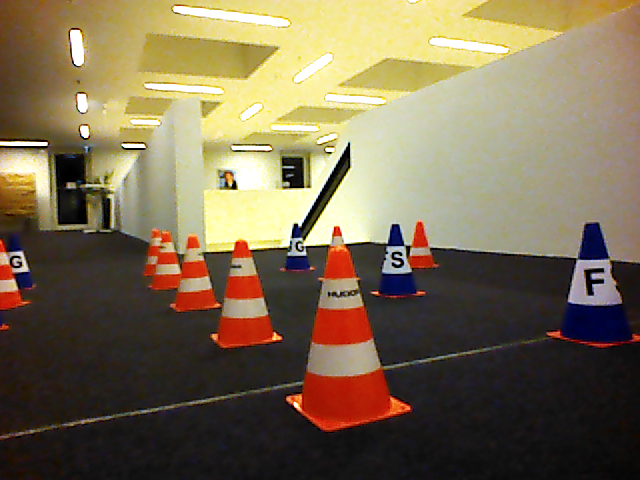bluecone: (549, 221, 639, 349), (374, 222, 421, 299), (282, 222, 318, 273)
orangeconesmall: (213, 238, 283, 348), (172, 232, 221, 315)
